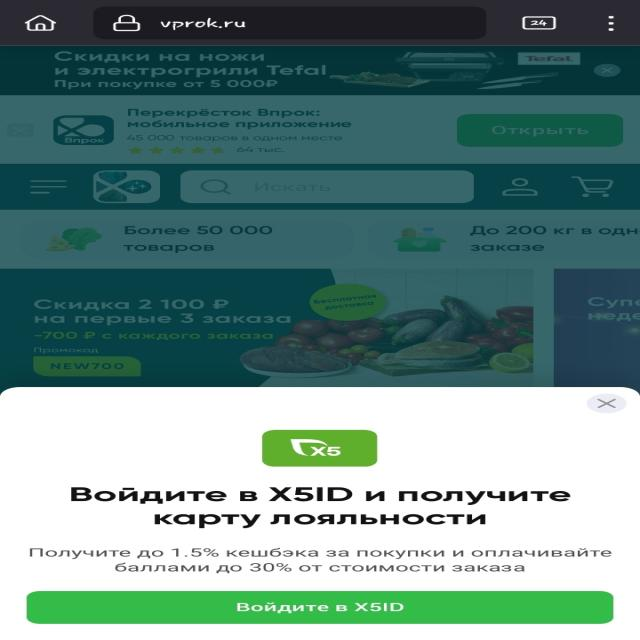button: (29, 590, 615, 624), (457, 113, 622, 146), (587, 393, 624, 412), (596, 63, 624, 79)
site: (0, 388, 640, 640), (0, 95, 640, 164), (2, 46, 640, 94)
